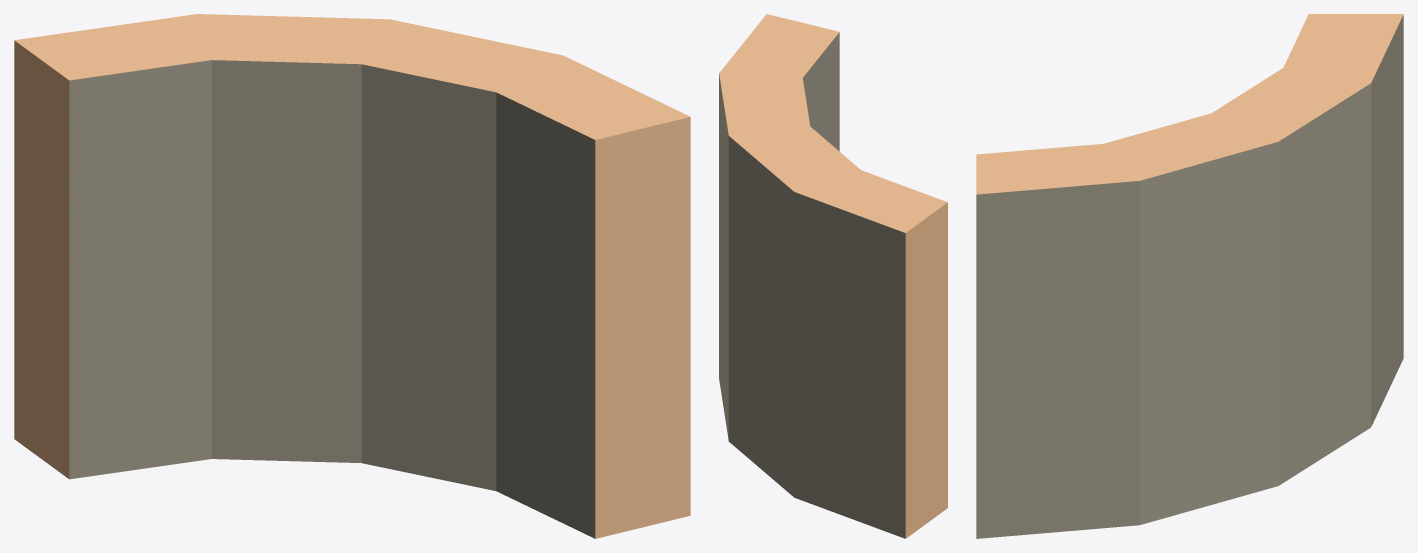
Rendered from Tiered_Retaining_Wall_Flat_Curve_1x1_Mid.glb.
The picture shows the model from 3 angles, left to right: view 1: azimuth 30°, elevation 25°; view 2: azimuth 150°, elevation 25°; view 3: azimuth 270°, elevation 25°; orthographic projection. The views are drawn at different scales.
Visible parts, largest first — view 1: Tiered_Retaining_Wall_Flat_Curve_1x1_Mid; view 2: Tiered_Retaining_Wall_Flat_Curve_1x1_Mid; view 3: Tiered_Retaining_Wall_Flat_Curve_1x1_Mid.
Boxes of the visible parts, x1,y1,x2,y2 form: Tiered_Retaining_Wall_Flat_Curve_1x1_Mid: (14,14,690,538); Tiered_Retaining_Wall_Flat_Curve_1x1_Mid: (719,14,947,538); Tiered_Retaining_Wall_Flat_Curve_1x1_Mid: (976,14,1403,538).
Size of the model in its own units: 112 by 100 by 113.
